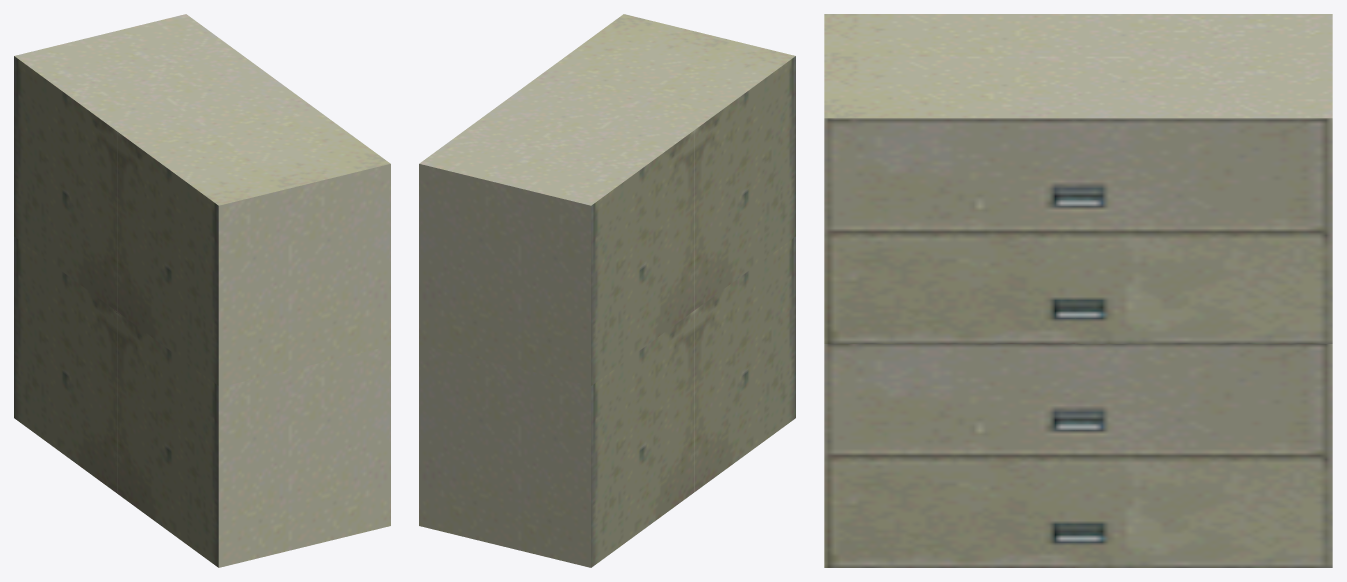
Rendered from filecabinet_large.fbx.
3 views of the same model, side by side, from view 1: azimuth 30°, elevation 25°; view 2: azimuth 150°, elevation 25°; view 3: azimuth 270°, elevation 25° (orthographic). The views are drawn at different scales.
Visible parts, largest first — view 1: file_cabinet_large; view 2: file_cabinet_large; view 3: file_cabinet_large.
Part boxes in pixels (x1,y1,x2,y2): file_cabinet_large: (14,14,390,567); file_cabinet_large: (419,14,795,567); file_cabinet_large: (824,14,1332,567).
Bounding box in the file's own units: 69.96 × 141 × 144.
